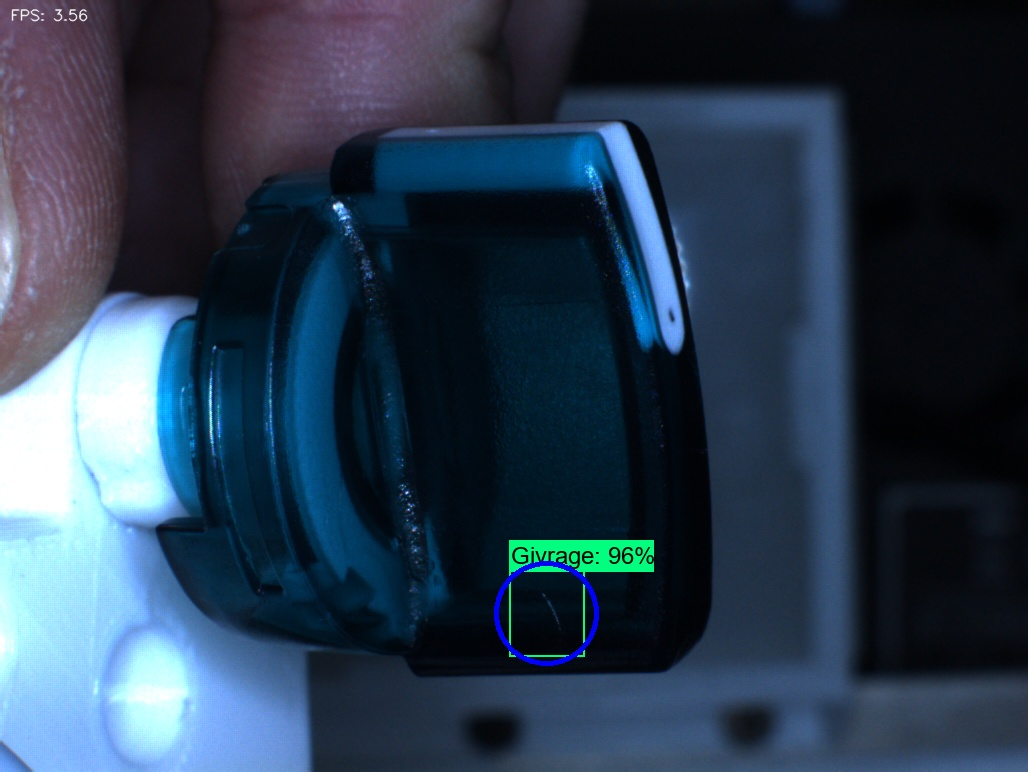PointNoir: (635, 269, 711, 364)
